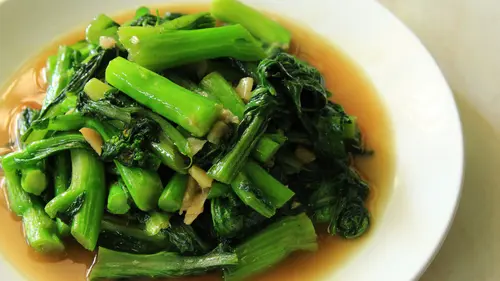buah_sayur_lainnya: (50, 44, 329, 269)
